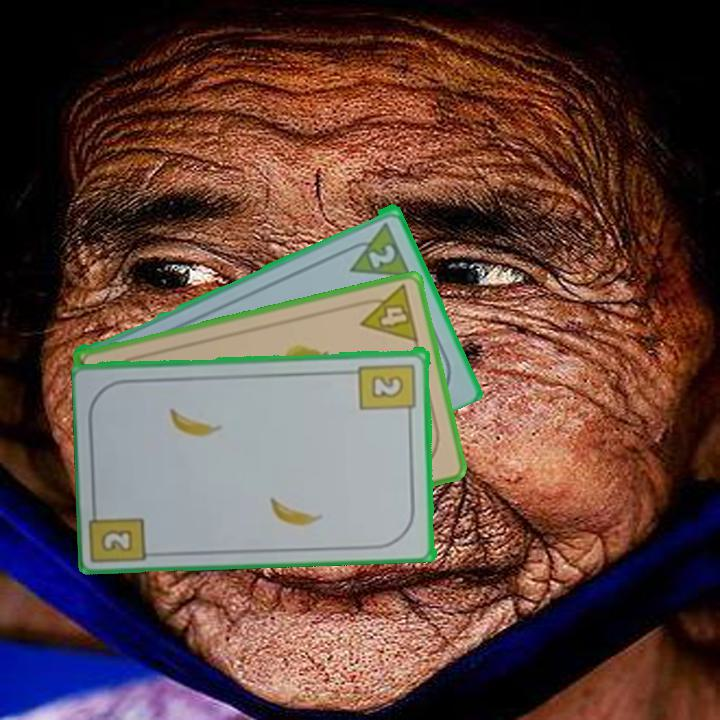2b: (356, 360, 419, 421), (98, 525, 137, 555)
2p: (339, 217, 413, 280)
4p: (352, 281, 422, 346)
